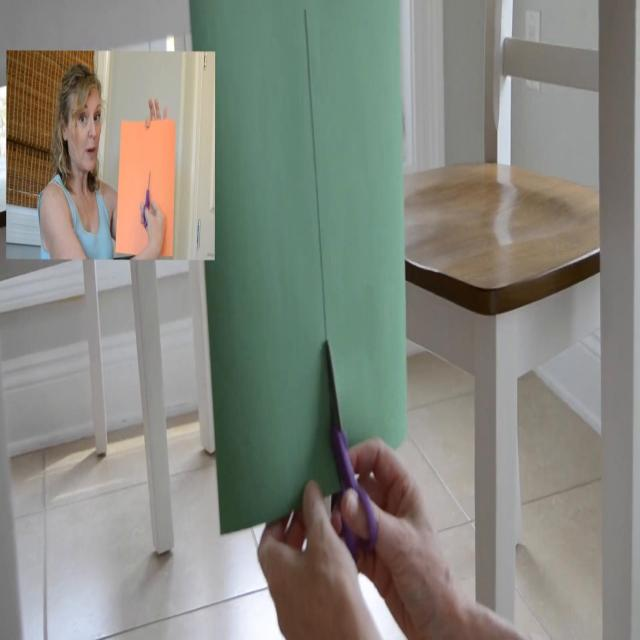scissor: (324, 340, 377, 567), (142, 171, 152, 226)
